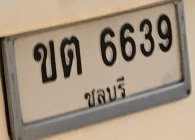txt02: (32, 39, 60, 86)
txt16: (59, 35, 84, 81)
